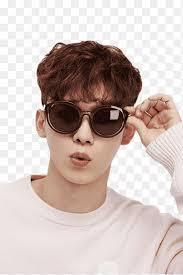sunglasses: (43, 94, 130, 142)
